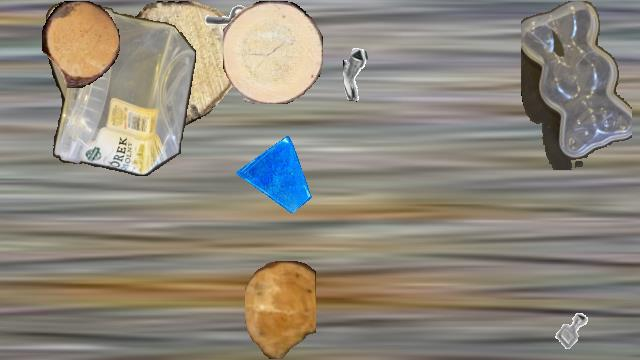glass: (236, 136, 312, 212)
metal: (190, 1, 252, 63), (343, 46, 399, 102), (547, 305, 597, 355), (0, 247, 7, 297)
plastic: (46, 1, 196, 175), (521, 1, 631, 169)
wood: (100, 1, 240, 127), (223, 1, 323, 103), (245, 261, 315, 359), (42, 1, 120, 87)
